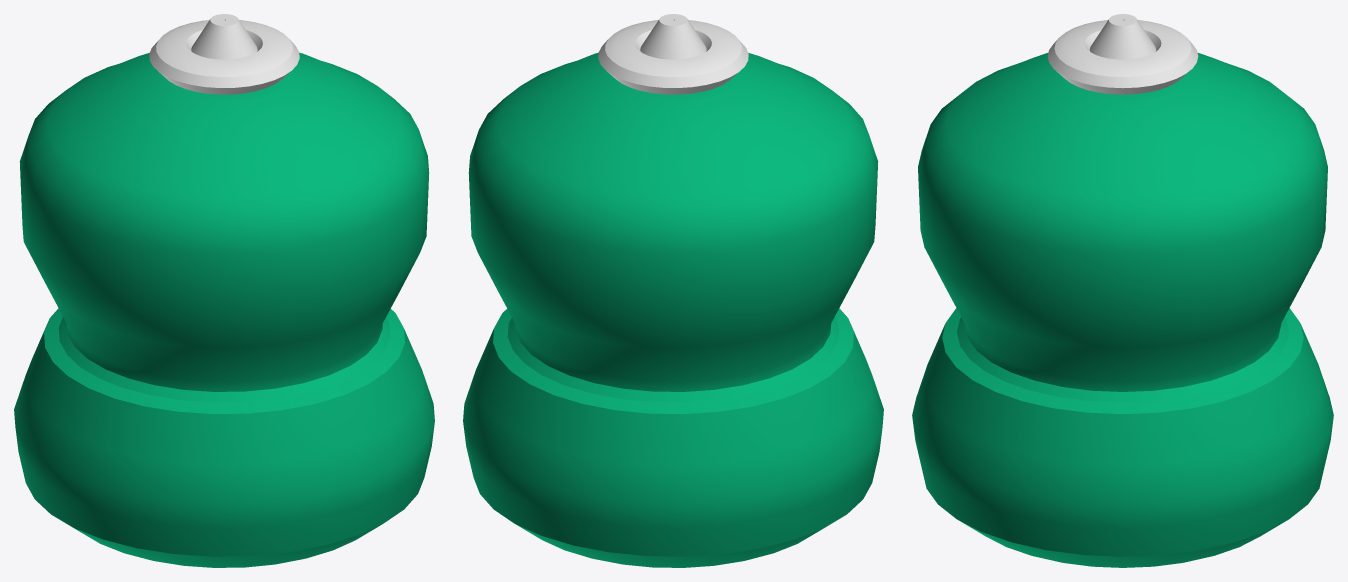
Rendered from bottle34.glb.
The picture shows the model from 3 angles, left to right: view 1: azimuth 30°, elevation 25°; view 2: azimuth 150°, elevation 25°; view 3: azimuth 270°, elevation 25°; orthographic projection.
Parts seen in each view (by area): view 1: Bottle34; view 2: Bottle34; view 3: Bottle34.
Boxes of the visible parts, x1=… form: Bottle34: x1=14, y1=14, x2=434, y2=567; Bottle34: x1=463, y1=14, x2=883, y2=567; Bottle34: x1=912, y1=14, x2=1333, y2=567.
Bounding box in the file's own units: 1.39 × 1.76 × 1.39.
